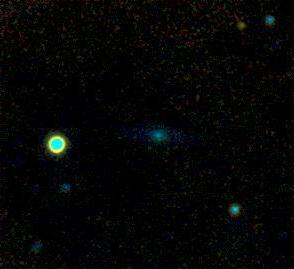star: (226, 9, 256, 39)
